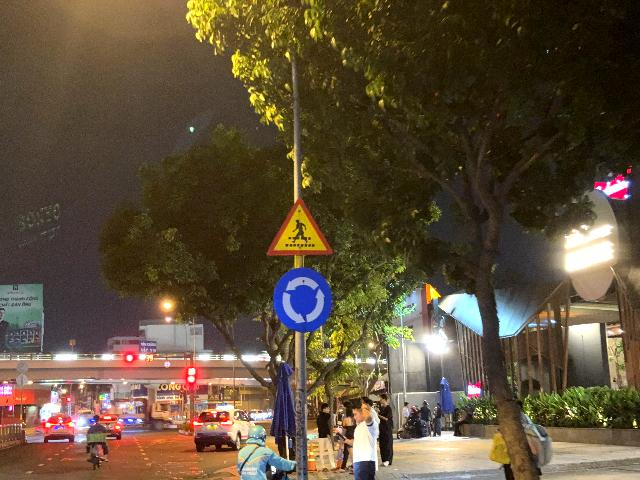duong-nguoi-di-bo-cat-ngang: (267, 197, 331, 254)
noi-giao-nhau-chay-theo-vong-xuyen: (273, 267, 331, 333)
